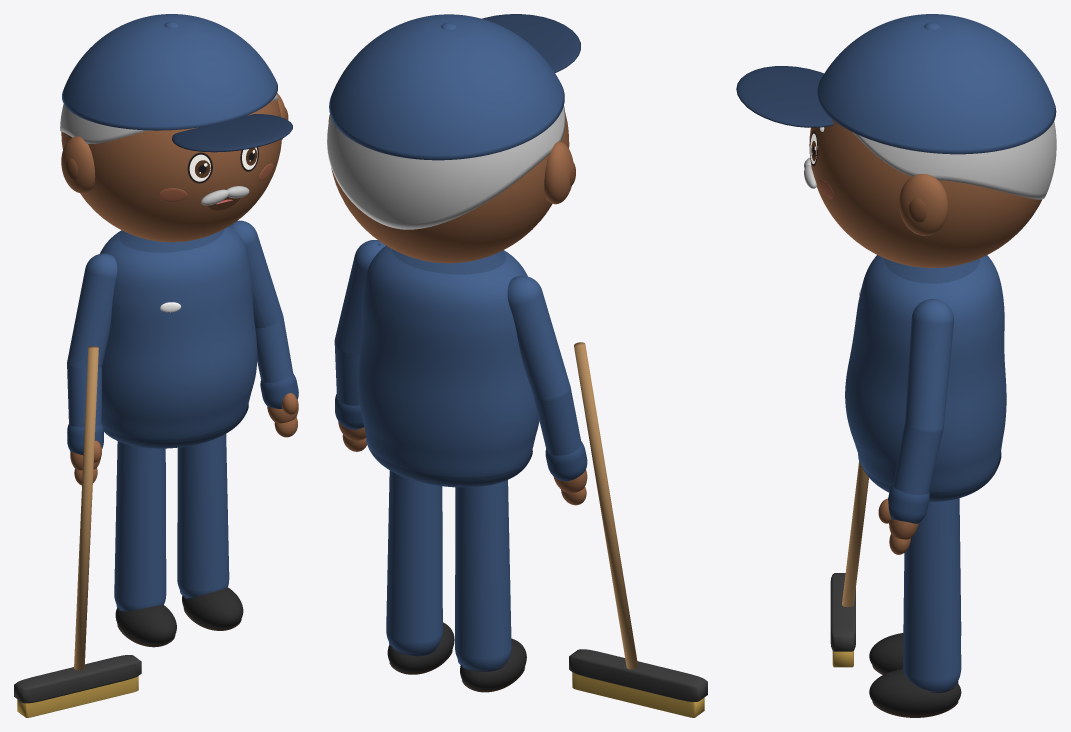
Rendered from concierge.glb.
3 views of the same model, side by side, from view 1: azimuth 30°, elevation 25°; view 2: azimuth 150°, elevation 25°; view 3: azimuth 270°, elevation 25° (orthographic). The views are drawn at different scales.
Visible parts, largest first — view 1: concierge_romp, concierge_pet, concierge_hoofd, concierge_been_R, concierge_been_L, concierge_bezemsteel, concierge_bovenarm_R, concierge_bezem_kop, concierge_pet_klep, concierge_bovenarm_L, concierge_schoen_R, concierge_onderarm_L (+9 smaller); view 2: concierge_romp, concierge_pet, concierge_haar, concierge_been_R, concierge_been_L, concierge_hoofd, concierge_bovenarm_R, concierge_bezemsteel, concierge_bezem_kop, concierge_pet_klep, concierge_bovenarm_L, concierge_onderarm_R (+9 smaller); view 3: concierge_pet, concierge_romp, concierge_hoofd, concierge_been_L, concierge_haar, concierge_bovenarm_L, concierge_pet_klep, concierge_schoen_L, concierge_onderarm_L, concierge_oor_L, concierge_bezemsteel, concierge_bezem_kop (+4 smaller).
Boxes of the visible parts, x1,y1,x2,y2 form: concierge_romp: (100,226,257,439); concierge_pet: (62,14,277,130); concierge_hoofd: (61,100,281,242); concierge_been_R: (114,441,166,611); concierge_been_L: (177,434,229,597); concierge_bezemsteel: (74,346,98,670); concierge_bovenarm_R: (67,253,117,368); concierge_bezem_kop: (14,655,141,703); concierge_pet_klep: (172,114,292,152); concierge_bovenarm_L: (229,220,282,328); concierge_schoen_R: (115,605,176,644); concierge_onderarm_L: (255,318,293,382); concierge_romp: (358,245,539,477); concierge_pet: (329,14,564,160); concierge_haar: (327,106,565,229); concierge_been_R: (455,480,511,670); concierge_been_L: (386,470,442,653); concierge_hoofd: (331,113,569,263); concierge_bovenarm_R: (507,275,569,401); concierge_bezemsteel: (574,342,638,669); concierge_bezem_kop: (569,649,707,701); concierge_pet_klep: (482,14,580,72); concierge_bovenarm_L: (335,240,385,354); concierge_onderarm_R: (533,388,581,455); concierge_pet: (816,14,1056,154); concierge_romp: (845,255,1006,492); concierge_hoofd: (809,119,1041,267); concierge_been_L: (903,498,961,691); concierge_haar: (852,121,1056,199); concierge_bovenarm_L: (905,299,953,433); concierge_pet_klep: (736,66,833,127); concierge_schoen_L: (869,669,961,713); concierge_onderarm_L: (893,423,942,494); concierge_oor_L: (899,174,948,235); concierge_bezemsteel: (842,461,868,607); concierge_bezem_kop: (830,573,855,651).
Bounding box in the file's own units: 0.9626 × 1.85 × 0.7821.
